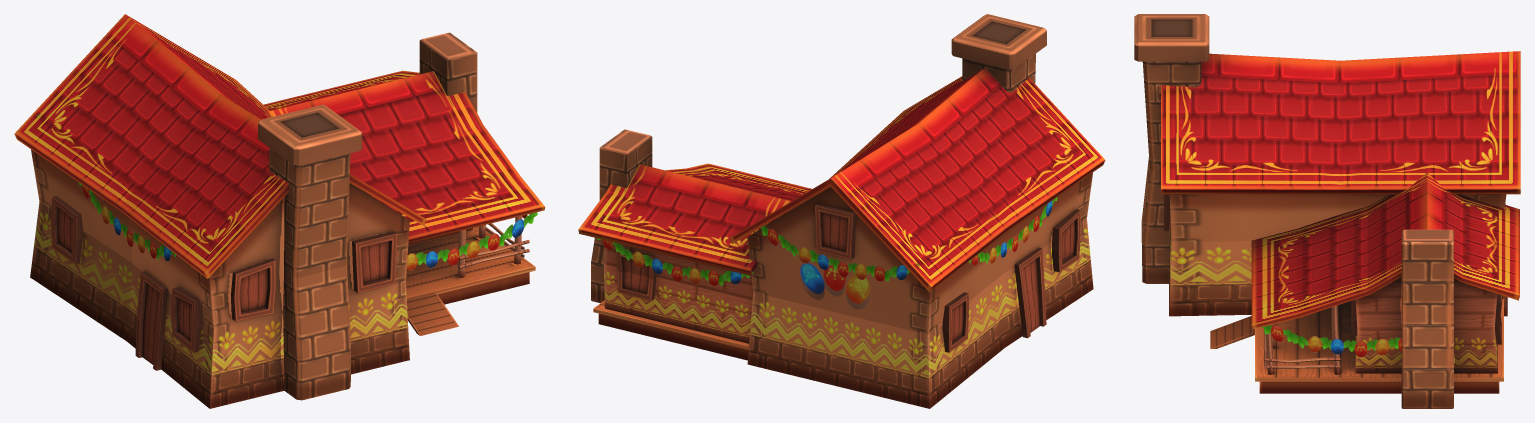
The model's file is House_10_F.FBX.
3 renders of one model, left to right at view 1: azimuth 30°, elevation 25°; view 2: azimuth 150°, elevation 25°; view 3: azimuth 270°, elevation 25°, orthographic. The views are drawn at different scales.
Parts seen in each view (by area): view 1: House_10; view 2: House_10; view 3: House_10.
Boxes of the visible parts, left/top/right/bottom form: House_10: left=14, top=14, right=544, bottom=408; House_10: left=578, top=14, right=1105, bottom=408; House_10: left=1134, top=14, right=1520, bottom=408.
Size of the model in its own units: 2.62 by 1.58 by 2.27.
